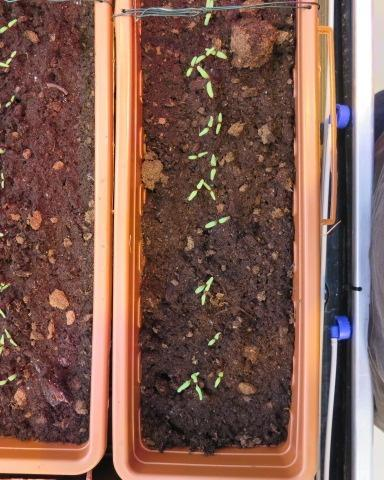crop: (194, 63, 214, 98), (202, 212, 230, 229), (184, 147, 209, 160), (207, 151, 217, 180), (204, 330, 221, 346), (213, 109, 222, 135), (213, 369, 224, 387)
